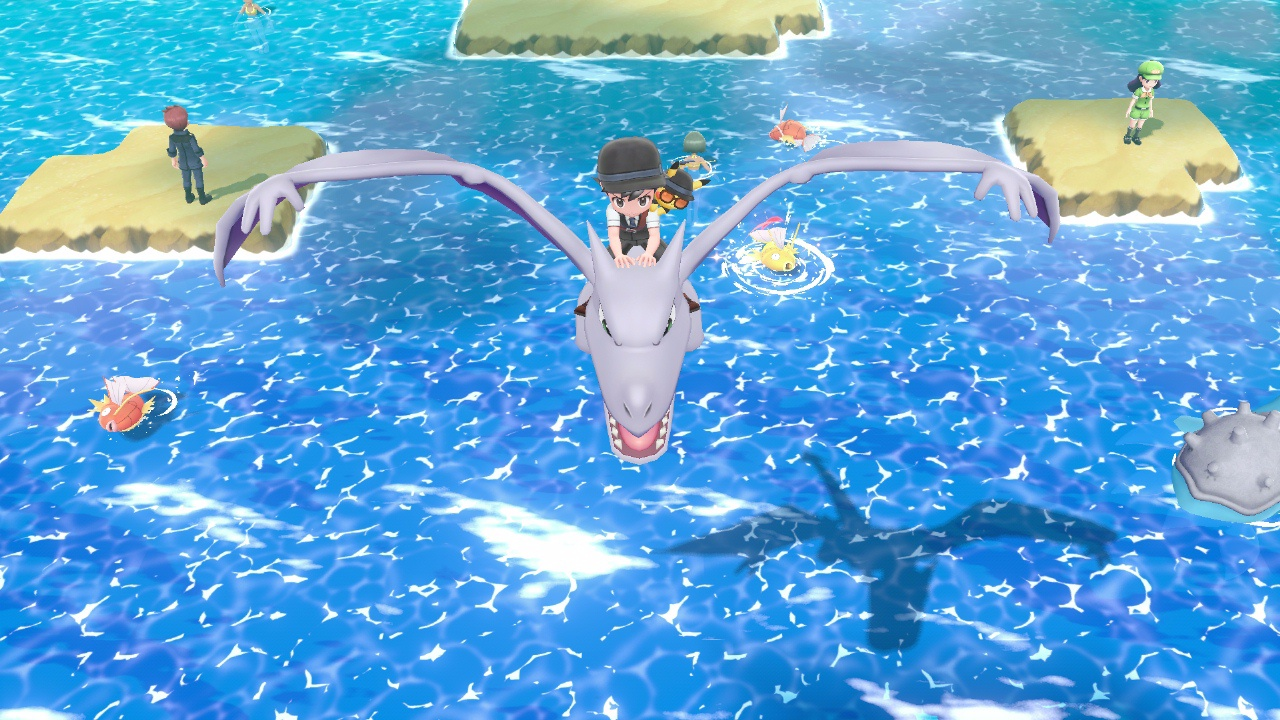Golden: (748, 224, 798, 274)
Red: (88, 375, 156, 433), (764, 104, 821, 152)
